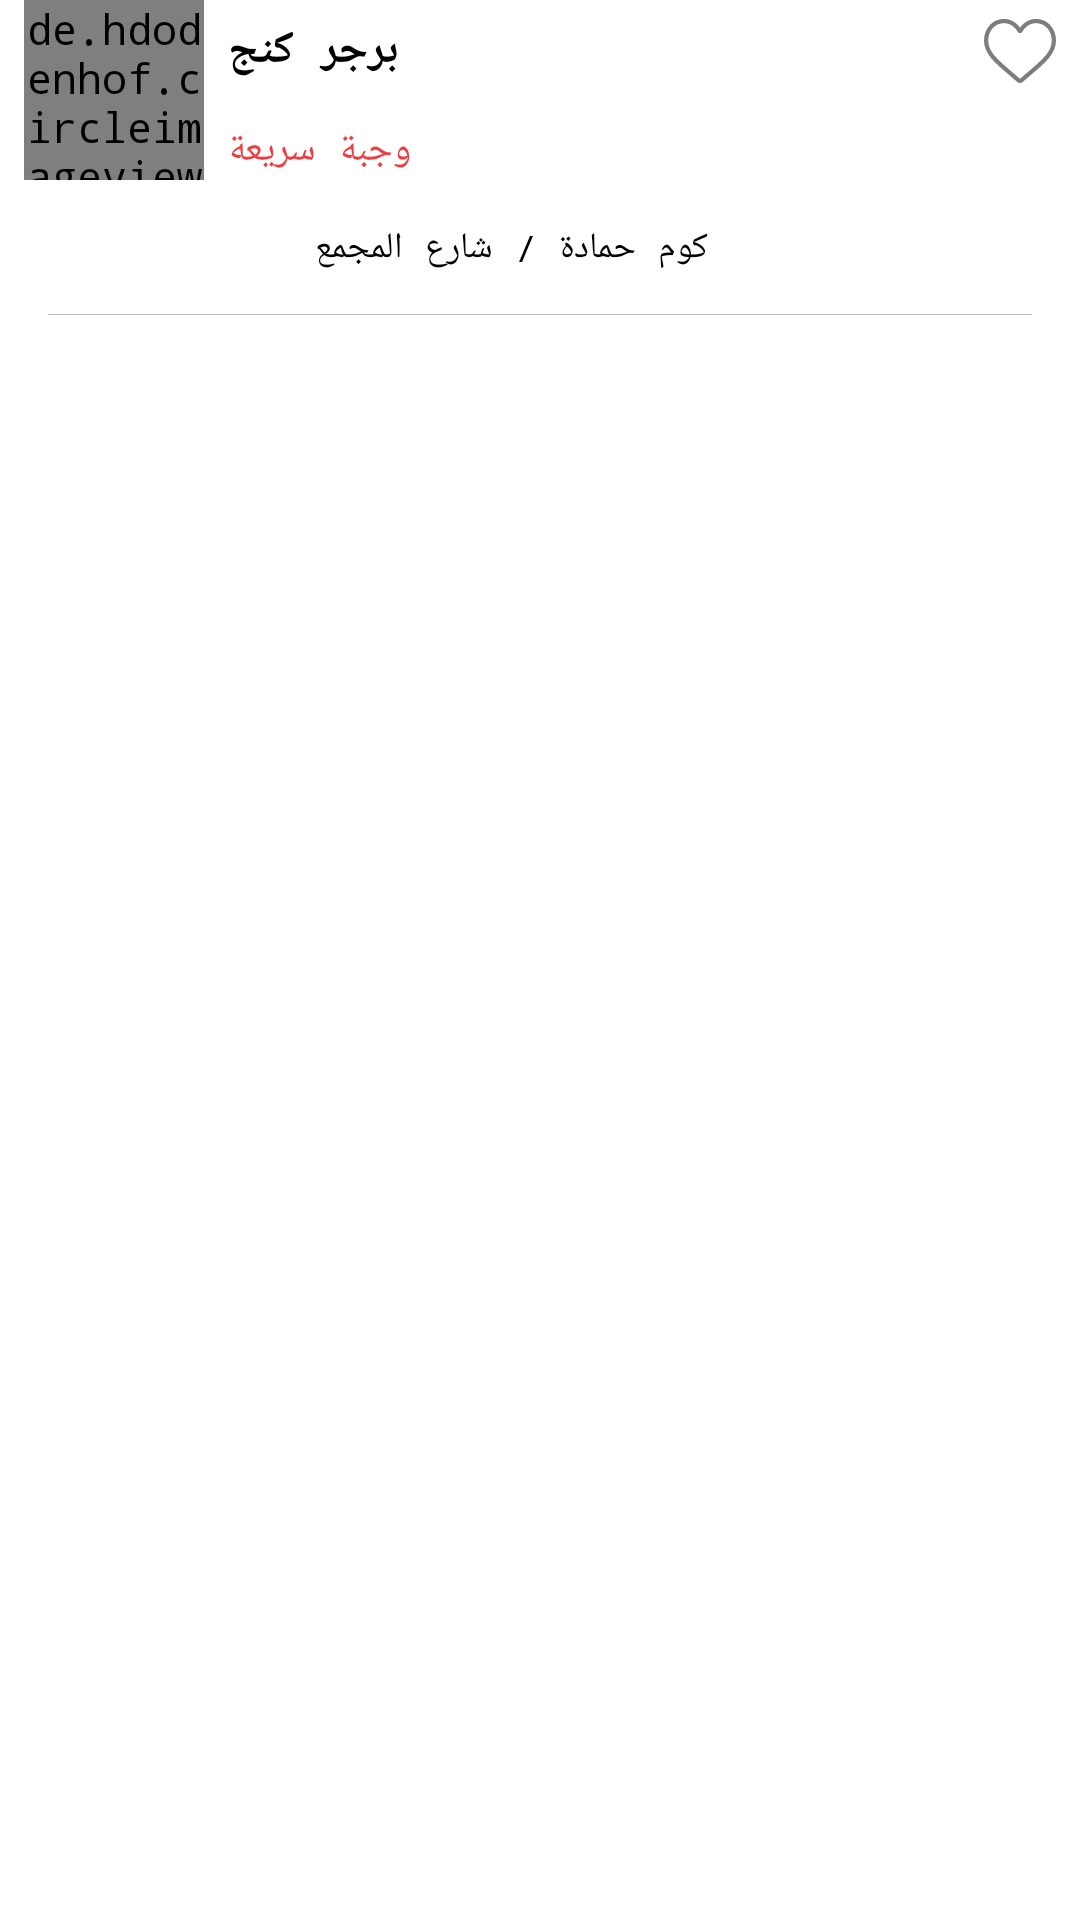

Screen size 1080x1920. Icon name, then its box in pixels as (x1, y1, x2, y2):
empty heart: (984, 19, 1056, 83)
